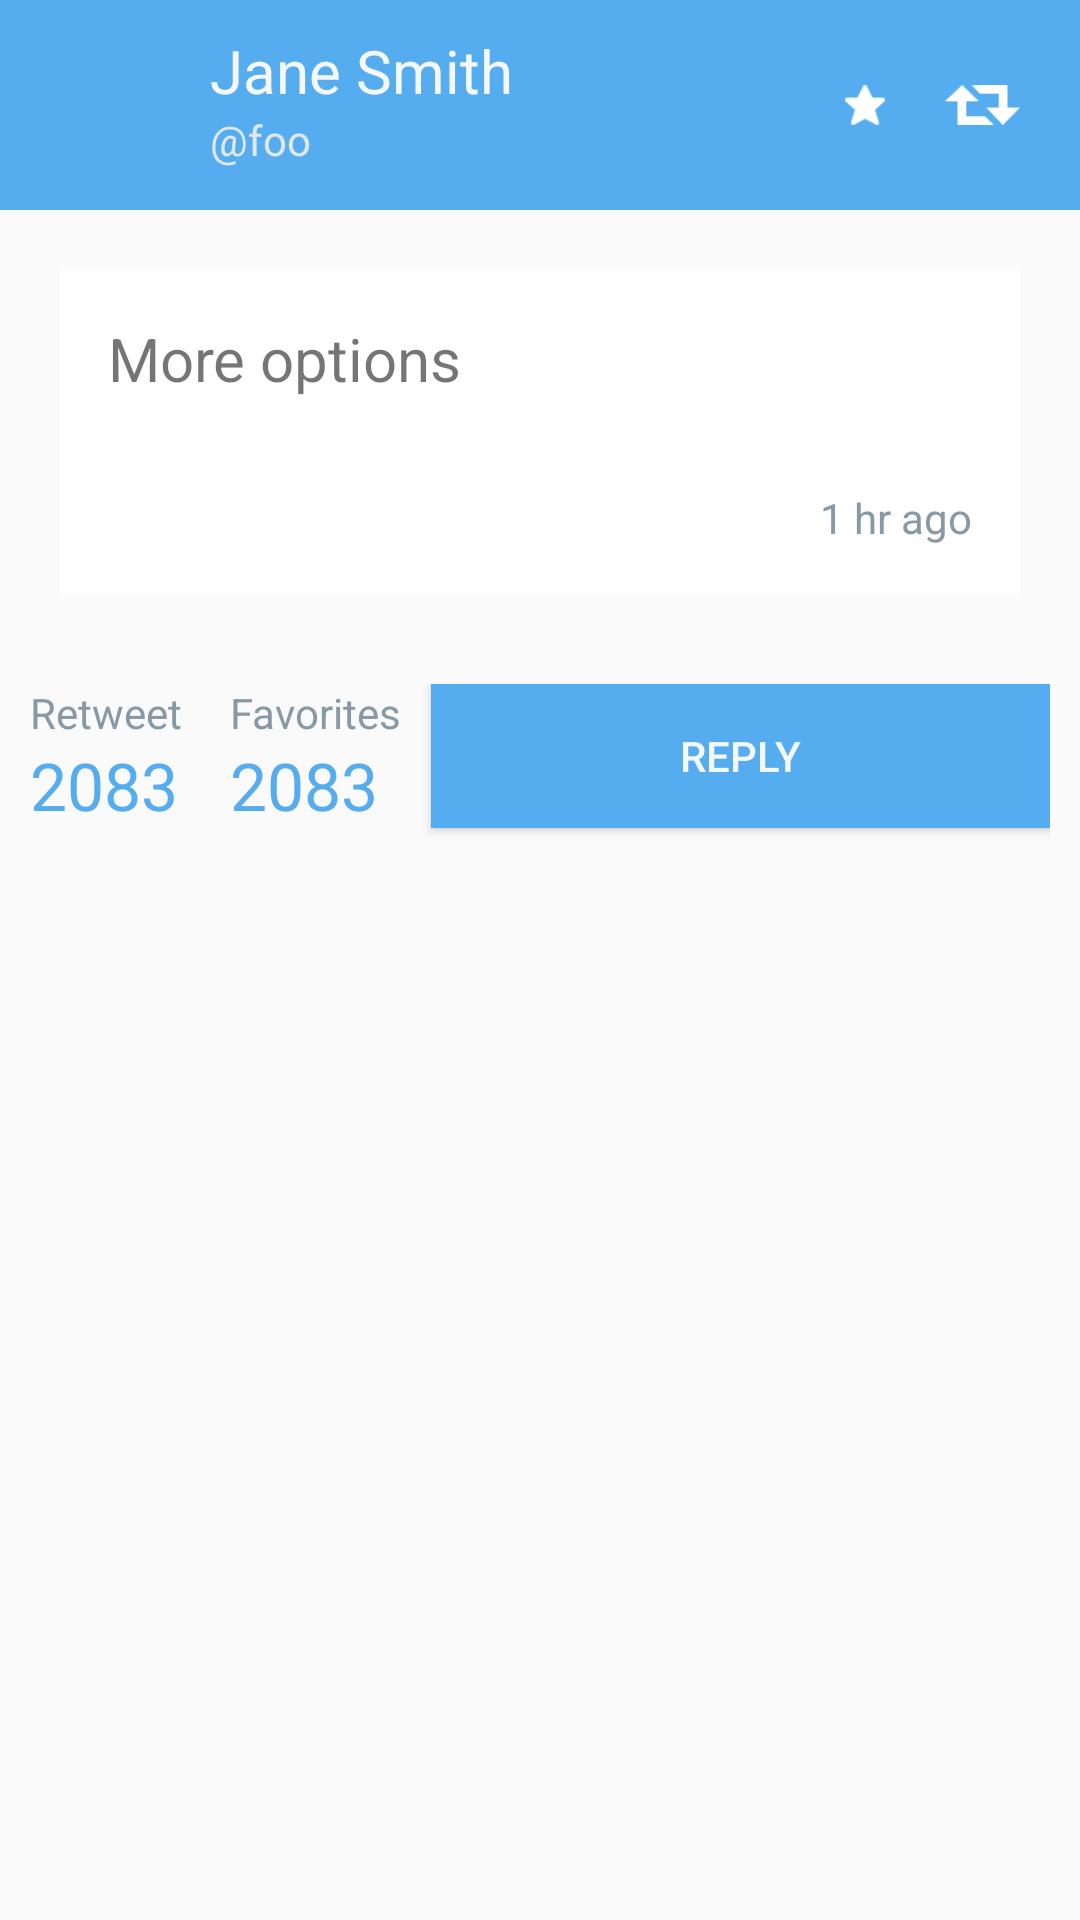

Icon bounding boxes for this 1080×1920 phone screenshot, format (x1, y1, x2, y2):
twitter favorite: (845, 85, 885, 125)
twitter retweet: (945, 85, 1020, 125)
